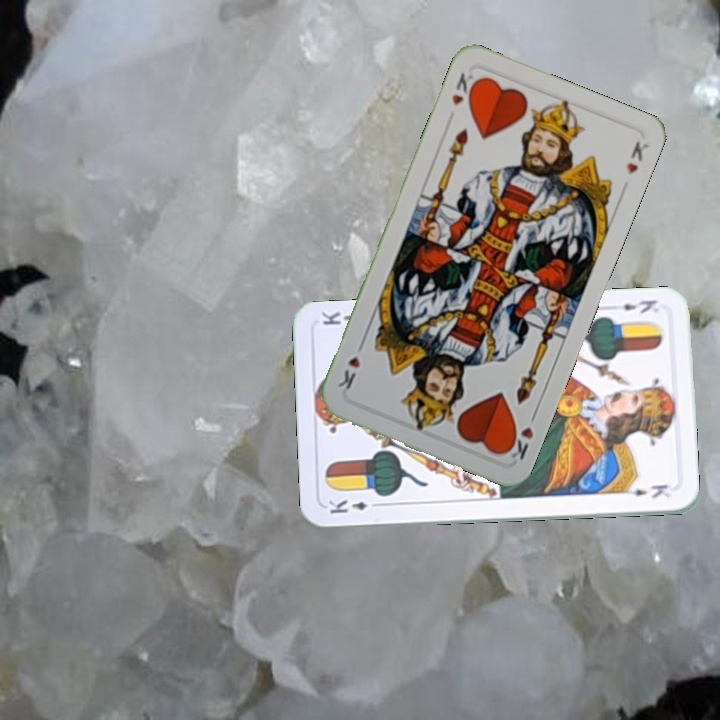EK: (324, 496, 384, 517), (606, 296, 659, 316)
HK: (501, 407, 540, 462), (447, 68, 481, 109)
